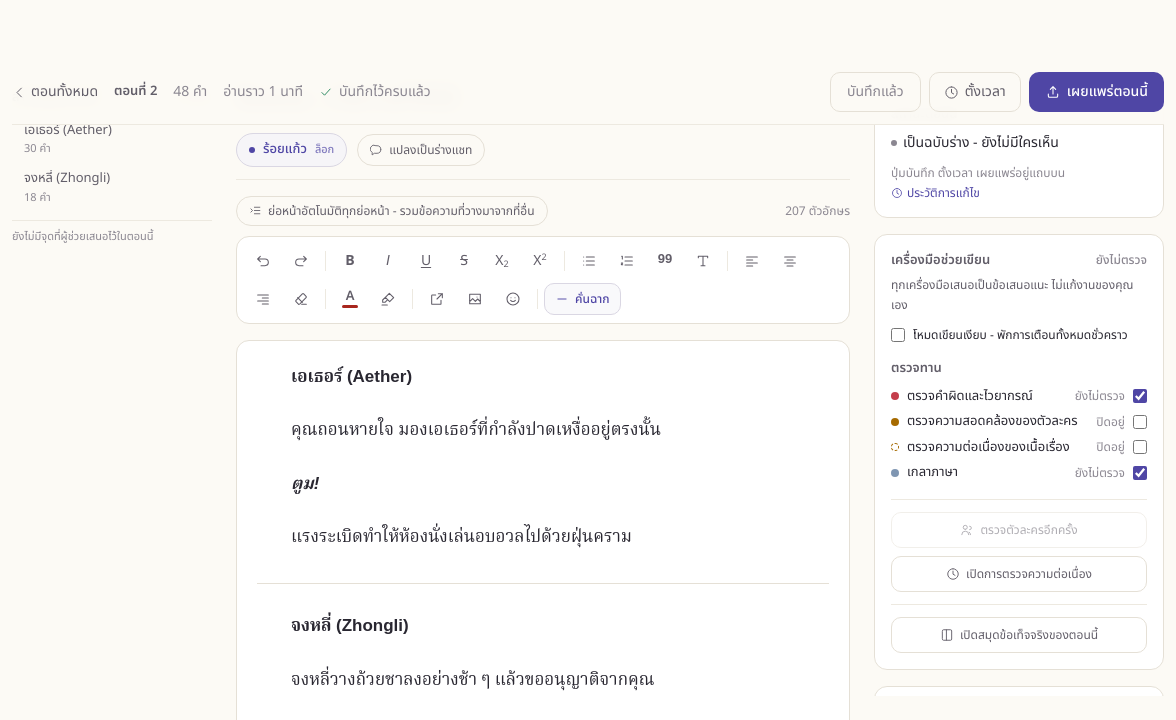
Test: the chat draft of a prose chapter (editor review 2026-08) › converts ON the press and opens the result in the chat-only composer
// The press converts - a blank form would break the button's promise.
Click the button "แปลงเป็นร่างแชท".
click(421, 150)  # box left=357, top=134, right=485, bottom=166
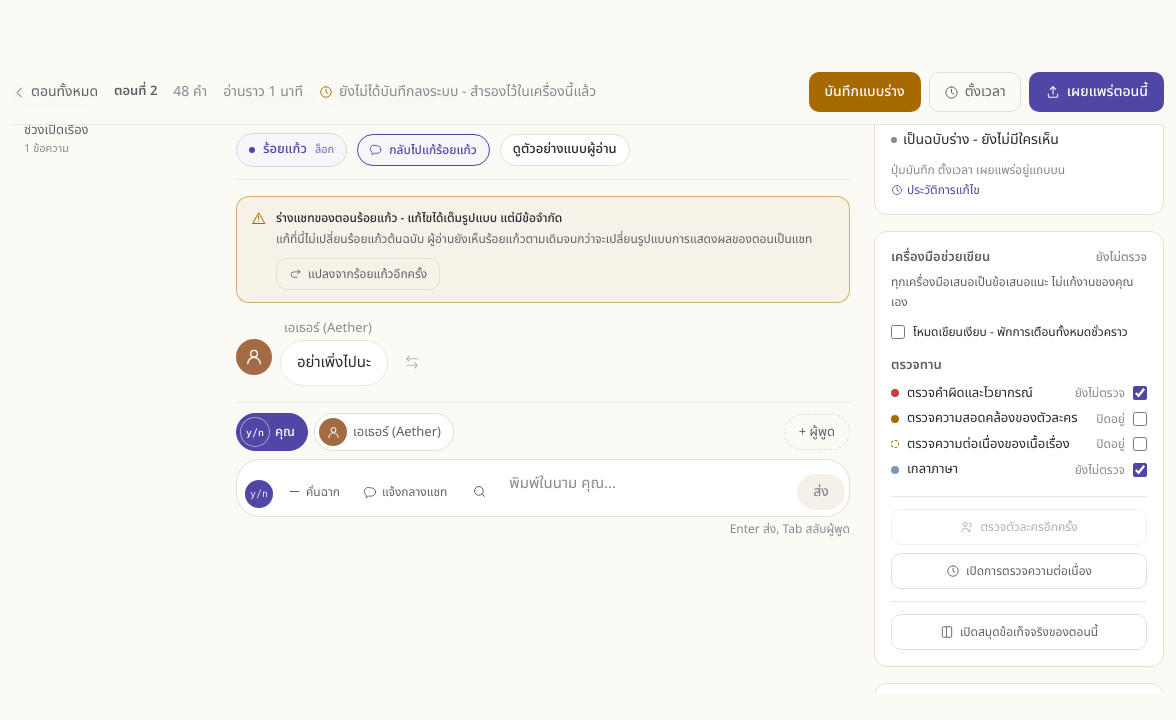
Check: the text box named "พิมพ์ข้อความ" is shown, box left=501, top=464, right=793, bottom=505
Check: the button "อย่าเพิ่งไปนะ" is shown, box left=280, top=340, right=388, bottom=386
Check: the button named "เอเธอร์" is shown, box left=315, top=416, right=347, bottom=448
Click the button "กลับไปแก้ร้อยแก้ว".
click(424, 150)  # box left=357, top=134, right=490, bottom=166
(page scrolled)
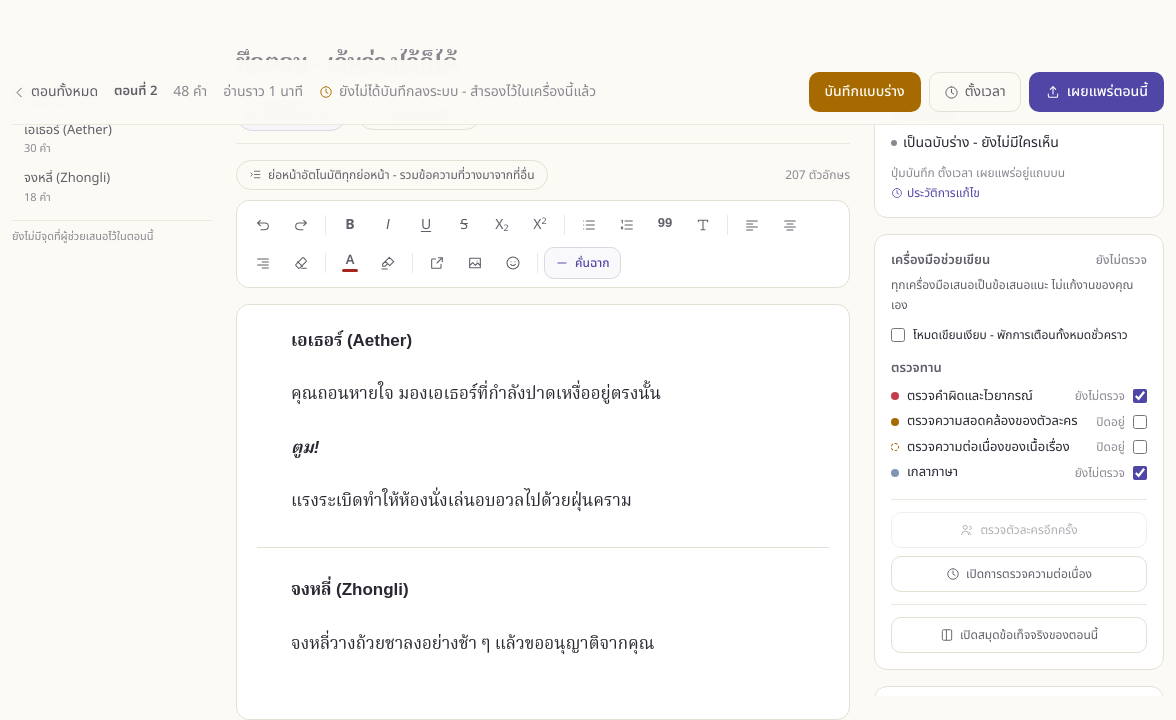
Check: the field named "เนื้อหาตอน" is shown, box left=236, top=304, right=850, bottom=719
